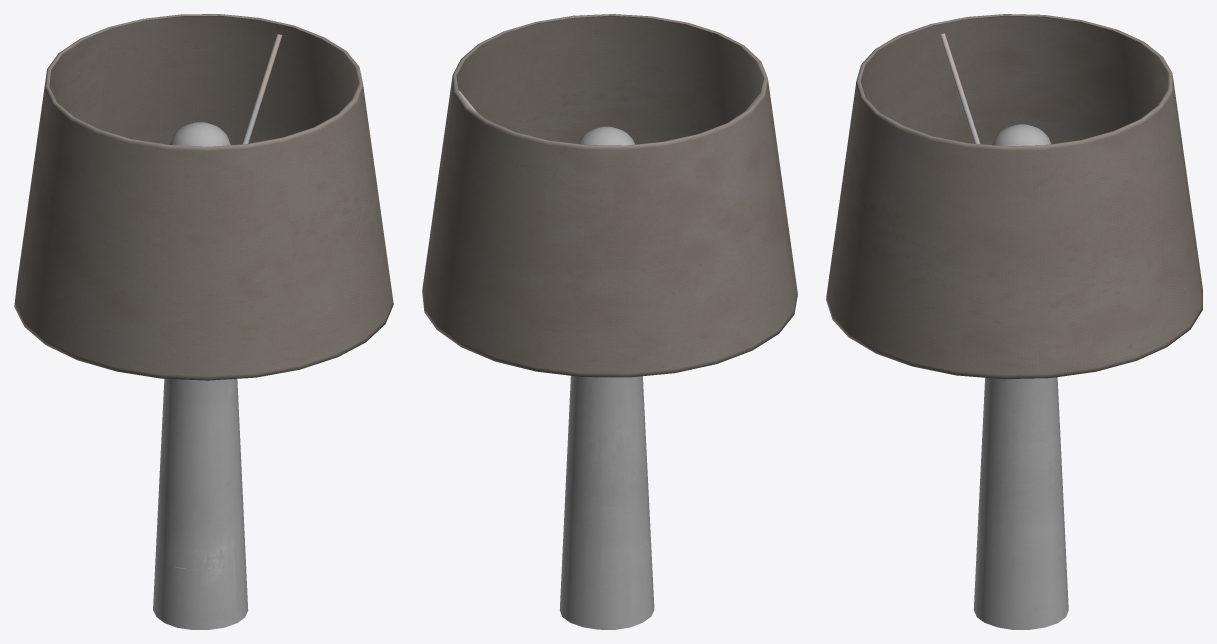
File: SM_Lamp_C1.fbx
3 renders of one model, left to right at view 1: azimuth 30°, elevation 25°; view 2: azimuth 150°, elevation 25°; view 3: azimuth 270°, elevation 25°, orthographic.
Visible parts, largest first — view 1: SM_Lamp_C1; view 2: SM_Lamp_C1; view 3: SM_Lamp_C1.
Part boxes in pixels (x1,y1,x2,y2): SM_Lamp_C1: (14, 14, 393, 629); SM_Lamp_C1: (422, 14, 797, 629); SM_Lamp_C1: (826, 14, 1202, 629).
Bounding box in the file's own units: 32.72 × 32.62 × 50.61.
1 material, 1 textured.
